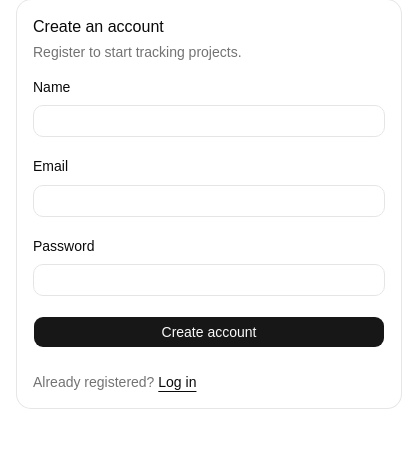
RegisterPage › shows the server message for an unrecognised error
Type "Ada" into the field labelled "Name".
click(209, 121); type("Ada")  # box [33, 105, 385, 137]
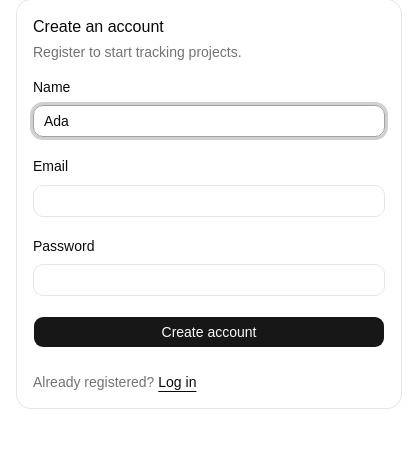
Type "ada@example.com" into the field labelled "Email".
click(209, 200); type("ada@example.com")  # box [33, 184, 385, 216]
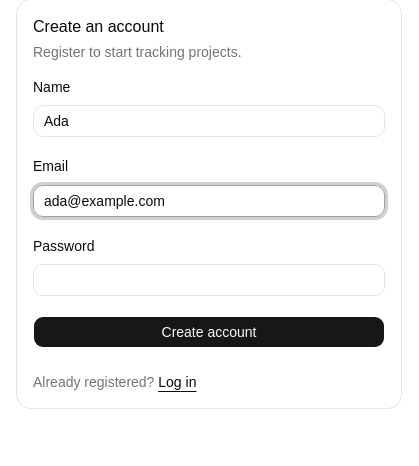
Type "correct horse" into the password field labelled "Password".
click(209, 280); type("correct horse")  # box [33, 264, 385, 296]
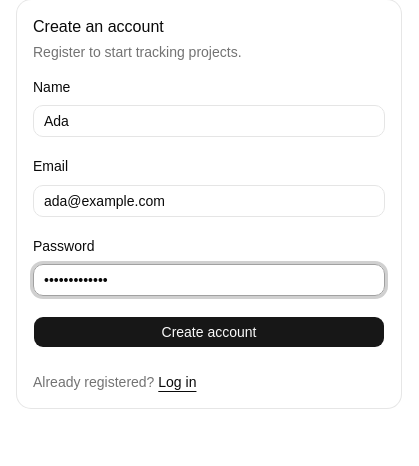
Click the button "Create account".
click(209, 332)  # box [33, 316, 385, 348]
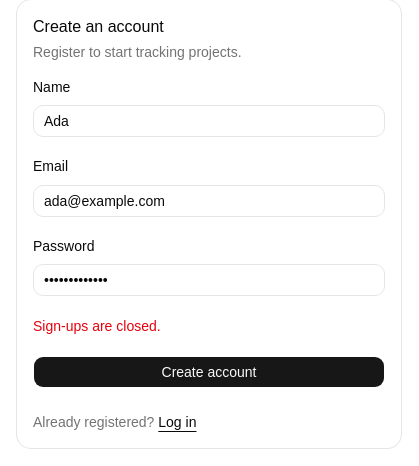
Expected: the text "Sign-ups are closed." is shown, [33, 318, 161, 334]
